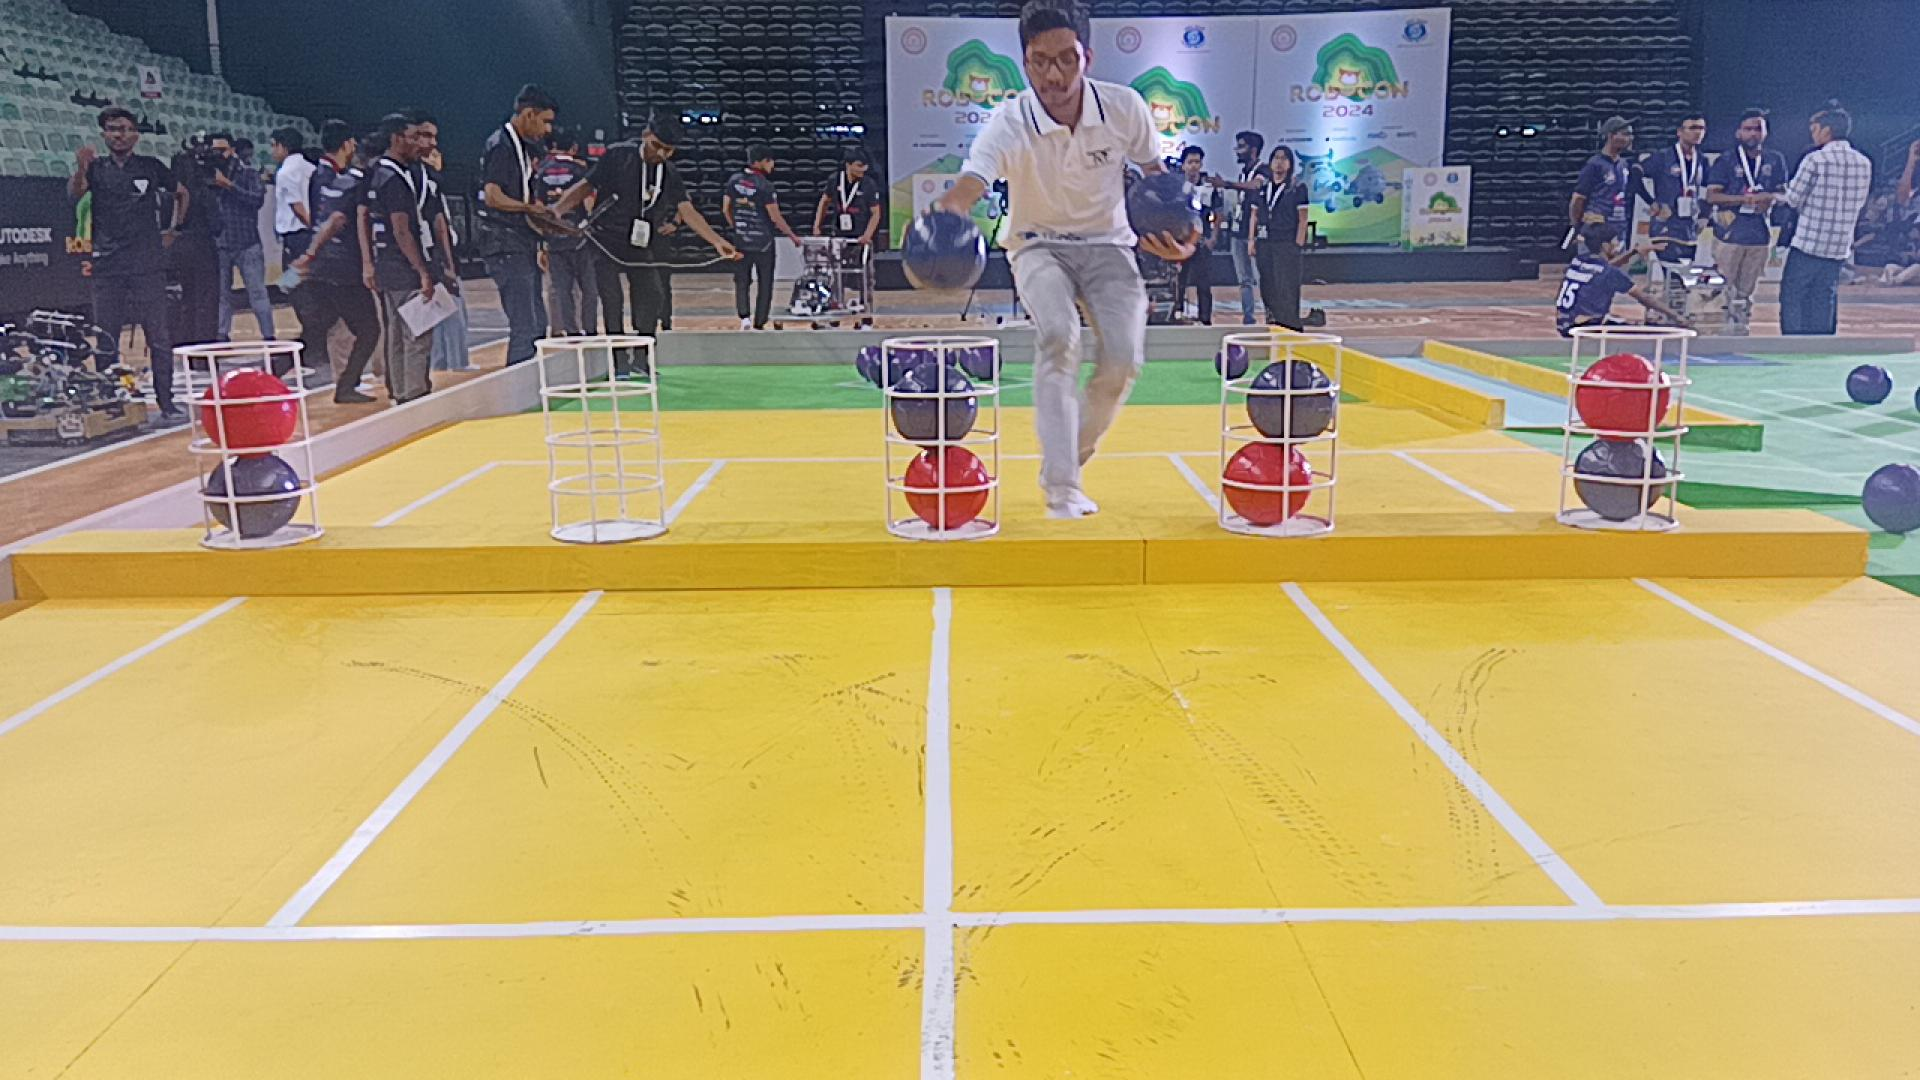dhoka: (203, 454, 303, 541), (1575, 439, 1665, 521), (1245, 360, 1335, 439), (889, 364, 978, 443)
laale: (199, 368, 301, 450), (1575, 352, 1668, 439), (1222, 443, 1312, 525), (903, 446, 990, 529)
